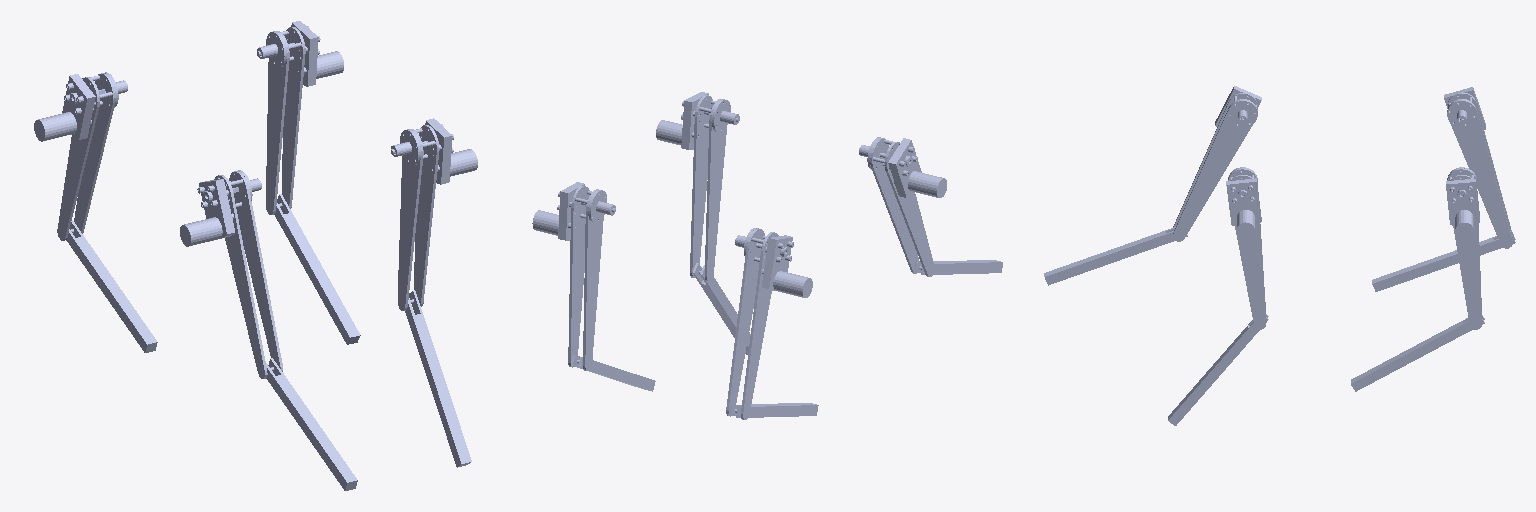
The robot description file, URDF, robot "quadruped_urdf3":
<?xml version="1.0" encoding="utf-8"?>
<!-- This URDF was automatically created by SolidWorks to URDF Exporter! Originally created by [author] ([email redacted]) 
     Commit Version: 1.5.1-0-g916b5db  Build Version: 1.5.7152.31018
     For more information, please see http://wiki.ros.org/sw_urdf_exporter -->
<robot
  name="quadruped_urdf3">
  <link
    name="base">
    <inertial>
      <origin
        xyz="0.20659 -0.8365 0.62964"
        rpy="0 0 0" />
      <mass
        value="2.7082" />
      <inertia
        ixx="0.014963"
        ixy="2.7115E-09"
        ixz="-2.942E-12"
        iyy="0.0078349"
        iyz="-1.5155E-12"
        izz="0.020784" />
    </inertial>
    <visual>
      <origin
        xyz="0 0 0"
        rpy="0 0 0" />
      <geometry>
        <mesh
          filename="package://quadruped_urdf3/meshes/base.STL" />
      </geometry>
      <material
        name="">
        <color
          rgba="0.89804 0.91765 0.92941 1" />
      </material>
    </visual>
    <collision>
      <origin
        xyz="0 0 0"
        rpy="0 0 0" />
      <geometry>
        <mesh
          filename="package://quadruped_urdf3/meshes/base.STL" />
      </geometry>
    </collision>
  </link>
  <link
    name="fl_upper">
    <inertial>
      <origin
        xyz="0.042324 0.073339 0.06386"
        rpy="0 0 0" />
      <mass
        value="0.6084" />
      <inertia
        ixx="0.0026723"
        ixy="-0.0014288"
        ixz="-2.3376E-05"
        iyy="0.0010224"
        iyz="-4.0332E-05"
        izz="0.0035251" />
    </inertial>
    <visual>
      <origin
        xyz="0 0 0"
        rpy="0 0 0" />
      <geometry>
        <mesh
          filename="package://quadruped_urdf3/meshes/fl_upper.STL" />
      </geometry>
      <material
        name="">
        <color
          rgba="0.79216 0.81961 0.93333 1" />
      </material>
    </visual>
    <collision>
      <origin
        xyz="0 0 0"
        rpy="0 0 0" />
      <geometry>
        <mesh
          filename="package://quadruped_urdf3/meshes/fl_upper.STL" />
      </geometry>
    </collision>
  </link>
  <joint
    name="fl_upper_to_base"
    type="revolute">
    <origin
      xyz="0.33259 -0.61703 0.654"
      rpy="-1.5708 0.6162 -1.5708" />
    <parent
      link="base" />
    <child
      link="fl_upper" />
    <axis
      xyz="0 0 0" />
    <limit
      lower="0"
      upper="0"
      effort="0"
      velocity="0" />
  </joint>
  <link
    name="fl_lower">
    <inertial>
      <origin
        xyz="-0.12456 -0.072926 0.0175"
        rpy="0 0 0" />
      <mass
        value="0.11194" />
      <inertia
        ixx="0.00019387"
        ixy="-0.00031797"
        ixz="1.5984E-19"
        iyy="0.00055079"
        iyz="9.3872E-20"
        izz="0.00073666" />
    </inertial>
    <visual>
      <origin
        xyz="0 0 0"
        rpy="0 0 0" />
      <geometry>
        <mesh
          filename="package://quadruped_urdf3/meshes/fl_lower.STL" />
      </geometry>
      <material
        name="">
        <color
          rgba="0.79216 0.81961 0.93333 1" />
      </material>
    </visual>
    <collision>
      <origin
        xyz="0 0 0"
        rpy="0 0 0" />
      <geometry>
        <mesh
          filename="package://quadruped_urdf3/meshes/fl_lower.STL" />
      </geometry>
    </collision>
  </link>
  <joint
    name="fl_lower_to_upper"
    type="revolute">
    <origin
      xyz="0.15 0.25981 0.036"
      rpy="0 0 2.5254" />
    <parent
      link="fl_upper" />
    <child
      link="fl_lower" />
    <axis
      xyz="0 0 0" />
    <limit
      lower="0"
      upper="0"
      effort="0"
      velocity="0" />
  </joint>
  <link
    name="fr_upper">
    <inertial>
      <origin
        xyz="-0.042363 -0.073339 0.06386"
        rpy="0 0 0" />
      <mass
        value="0.6084" />
      <inertia
        ixx="0.0026723"
        ixy="-0.0014288"
        ixz="2.3186E-05"
        iyy="0.0010224"
        iyz="4.0332E-05"
        izz="0.0035251" />
    </inertial>
    <visual>
      <origin
        xyz="0 0 0"
        rpy="0 0 0" />
      <geometry>
        <mesh
          filename="package://quadruped_urdf3/meshes/fr_upper.STL" />
      </geometry>
      <material
        name="">
        <color
          rgba="0.79216 0.81961 0.93333 1" />
      </material>
    </visual>
    <collision>
      <origin
        xyz="0 0 0"
        rpy="0 0 0" />
      <geometry>
        <mesh
          filename="package://quadruped_urdf3/meshes/fr_upper.STL" />
      </geometry>
    </collision>
  </link>
  <joint
    name="fr_upper_to_base"
    type="revolute">
    <origin
      xyz="0.08059 -0.61703 0.654"
      rpy="1.5708 -0.22142 -1.5708" />
    <parent
      link="base" />
    <child
      link="fr_upper" />
    <axis
      xyz="0 0 0" />
    <limit
      lower="0"
      upper="0"
      effort="0"
      velocity="0" />
  </joint>
  <link
    name="fr_lower">
    <inertial>
      <origin
        xyz="-0.13455 -0.052225 0.0175"
        rpy="0 0 0" />
      <mass
        value="0.11194" />
      <inertia
        ixx="0.00010318"
        ixy="-0.00024599"
        ixz="2.5948E-20"
        iyy="0.00064148"
        iyz="8.2367E-21"
        izz="0.00073666" />
    </inertial>
    <visual>
      <origin
        xyz="0 0 0"
        rpy="0 0 0" />
      <geometry>
        <mesh
          filename="package://quadruped_urdf3/meshes/fr_lower.STL" />
      </geometry>
      <material
        name="">
        <color
          rgba="0.79216 0.81961 0.93333 1" />
      </material>
    </visual>
    <collision>
      <origin
        xyz="0 0 0"
        rpy="0 0 0" />
      <geometry>
        <mesh
          filename="package://quadruped_urdf3/meshes/fr_lower.STL" />
      </geometry>
    </collision>
  </link>
  <joint
    name="fr_lower_to_upper"
    type="revolute">
    <origin
      xyz="-0.15 -0.25981 0.071"
      rpy="3.1416 0 2.9202" />
    <parent
      link="fr_upper" />
    <child
      link="fr_lower" />
    <axis
      xyz="0 0 0" />
    <limit
      lower="0"
      upper="0"
      effort="0"
      velocity="0" />
  </joint>
  <link
    name="bl_upper">
    <inertial>
      <origin
        xyz="0.042324 0.073339 0.06386"
        rpy="0 0 0" />
      <mass
        value="0.6084" />
      <inertia
        ixx="0.0026723"
        ixy="-0.0014288"
        ixz="-2.3376E-05"
        iyy="0.0010224"
        iyz="-4.0332E-05"
        izz="0.0035251" />
    </inertial>
    <visual>
      <origin
        xyz="0 0 0"
        rpy="0 0 0" />
      <geometry>
        <mesh
          filename="package://quadruped_urdf3/meshes/bl_upper.STL" />
      </geometry>
      <material
        name="">
        <color
          rgba="0.79216 0.81961 0.93333 1" />
      </material>
    </visual>
    <collision>
      <origin
        xyz="0 0 0"
        rpy="0 0 0" />
      <geometry>
        <mesh
          filename="package://quadruped_urdf3/meshes/bl_upper.STL" />
      </geometry>
    </collision>
  </link>
  <joint
    name="bl_upper_to_base"
    type="revolute">
    <origin
      xyz="0.33259 -1.056 0.654"
      rpy="-1.5708 0.63944 -1.5708" />
    <parent
      link="base" />
    <child
      link="bl_upper" />
    <axis
      xyz="0 0 0" />
    <limit
      lower="0"
      upper="0"
      effort="0"
      velocity="0" />
  </joint>
  <link
    name="bl_lower">
    <inertial>
      <origin
        xyz="-0.089574 -0.11318 0.0175"
        rpy="0 0 0" />
      <mass
        value="0.11194" />
      <inertia
        ixx="0.00045608"
        ixy="-0.00035487"
        ixz="1.4832E-20"
        iyy="0.00028857"
        iyz="1.723E-20"
        izz="0.00073666" />
    </inertial>
    <visual>
      <origin
        xyz="0 0 0"
        rpy="0 0 0" />
      <geometry>
        <mesh
          filename="package://quadruped_urdf3/meshes/bl_lower.STL" />
      </geometry>
      <material
        name="">
        <color
          rgba="0.79216 0.81961 0.93333 1" />
      </material>
    </visual>
    <collision>
      <origin
        xyz="0 0 0"
        rpy="0 0 0" />
      <geometry>
        <mesh
          filename="package://quadruped_urdf3/meshes/bl_lower.STL" />
      </geometry>
    </collision>
  </link>
  <joint
    name="bl_lower_to_upper"
    type="revolute">
    <origin
      xyz="0.15 0.25981 0.036"
      rpy="0 0 2.5021" />
    <parent
      link="bl_upper" />
    <child
      link="bl_lower" />
    <axis
      xyz="0 0 0" />
    <limit
      lower="0"
      upper="0"
      effort="0"
      velocity="0" />
  </joint>
  <link
    name="br_upper">
    <inertial>
      <origin
        xyz="-0.042363 -0.073339 0.06386"
        rpy="0 0 0" />
      <mass
        value="0.6084" />
      <inertia
        ixx="0.0026723"
        ixy="-0.0014288"
        ixz="2.3187E-05"
        iyy="0.0010224"
        iyz="4.0335E-05"
        izz="0.0035251" />
    </inertial>
    <visual>
      <origin
        xyz="0 0 0"
        rpy="0 0 0" />
      <geometry>
        <mesh
          filename="package://quadruped_urdf3/meshes/br_upper.STL" />
      </geometry>
      <material
        name="">
        <color
          rgba="0.79216 0.81961 0.93333 1" />
      </material>
    </visual>
    <collision>
      <origin
        xyz="0 0 0"
        rpy="0 0 0" />
      <geometry>
        <mesh
          filename="package://quadruped_urdf3/meshes/br_upper.STL" />
      </geometry>
    </collision>
  </link>
  <joint
    name="br_upper_to_base"
    type="revolute">
    <origin
      xyz="0.08059 -1.056 0.654"
      rpy="1.5708 -0.96357 -1.5708" />
    <parent
      link="base" />
    <child
      link="br_upper" />
    <axis
      xyz="0 0 0" />
    <limit
      lower="0"
      upper="0"
      effort="0"
      velocity="0" />
  </joint>
  <link
    name="br_lower">
    <inertial>
      <origin
        xyz="-0.13455 -0.052225 0.0175"
        rpy="0 0 0" />
      <mass
        value="0.11194" />
      <inertia
        ixx="0.00010318"
        ixy="-0.00024599"
        ixz="2.051E-20"
        iyy="0.00064148"
        iyz="1.2315E-20"
        izz="0.00073666" />
    </inertial>
    <visual>
      <origin
        xyz="0 0 0"
        rpy="0 0 0" />
      <geometry>
        <mesh
          filename="package://quadruped_urdf3/meshes/br_lower.STL" />
      </geometry>
      <material
        name="">
        <color
          rgba="0.79216 0.81961 0.93333 1" />
      </material>
    </visual>
    <collision>
      <origin
        xyz="0 0 0"
        rpy="0 0 0" />
      <geometry>
        <mesh
          filename="package://quadruped_urdf3/meshes/br_lower.STL" />
      </geometry>
    </collision>
  </link>
  <joint
    name="br_lower_to_upper"
    type="revolute">
    <origin
      xyz="-0.15 -0.25981 0.071"
      rpy="3.1416 0 2.178" />
    <parent
      link="br_upper" />
    <child
      link="br_lower" />
    <axis
      xyz="0 0 0" />
    <limit
      lower="0"
      upper="0"
      effort="0"
      velocity="0" />
  </joint>
</robot>

--- Render facts (derived) ---
Views: 3 orthographic renders of the robot side by side, from view 1: azimuth 30°, elevation 25°; view 2: azimuth 150°, elevation 25°; view 3: azimuth 270°, elevation 25°.
Model quadruped_urdf3 with 9 links and 8 joints (8 revolute), rooted at base, posed all joints at 0.
Visible links, largest first — view 1: br_upper, fl_upper, bl_upper, fr_upper, bl_lower, fl_lower, br_lower, fr_lower; view 2: fr_upper, fl_upper, bl_upper, br_upper, bl_lower, fr_lower, br_lower, fl_lower; view 3: br_upper, fr_upper, bl_upper, fl_upper, br_lower, fl_lower, bl_lower, fr_lower.
Boxes of the visible links, x1,y1,x2,y2 form: br_upper: [180, 170, 282, 378]; fl_upper: [257, 21, 343, 214]; bl_upper: [391, 118, 477, 310]; fr_upper: [34, 72, 127, 240]; bl_lower: [400, 290, 471, 467]; fl_lower: [269, 194, 360, 344]; br_lower: [260, 358, 357, 490]; fr_lower: [60, 220, 157, 352]; fr_upper: [726, 228, 812, 419]; fl_upper: [532, 182, 615, 370]; bl_upper: [656, 92, 739, 281]; br_upper: [859, 137, 946, 276]; bl_lower: [692, 263, 750, 354]; fr_lower: [728, 403, 818, 417]; br_lower: [913, 260, 1002, 274]; fl_lower: [571, 355, 655, 391]; br_upper: [1173, 86, 1261, 241]; fr_upper: [1444, 87, 1512, 248]; bl_upper: [1226, 167, 1265, 329]; fl_upper: [1446, 167, 1481, 329]; br_lower: [1044, 227, 1187, 285]; fl_lower: [1351, 315, 1484, 391]; bl_lower: [1168, 314, 1268, 425]; fr_lower: [1372, 231, 1515, 291].
Size in the robot's own frame: 0.56 by 0.9429 by 0.5624 metres.
8 mesh visuals loaded from 9 distinct referenced files (8 binary STL); not drawn: 1 (reference not matched to a file when rendering).